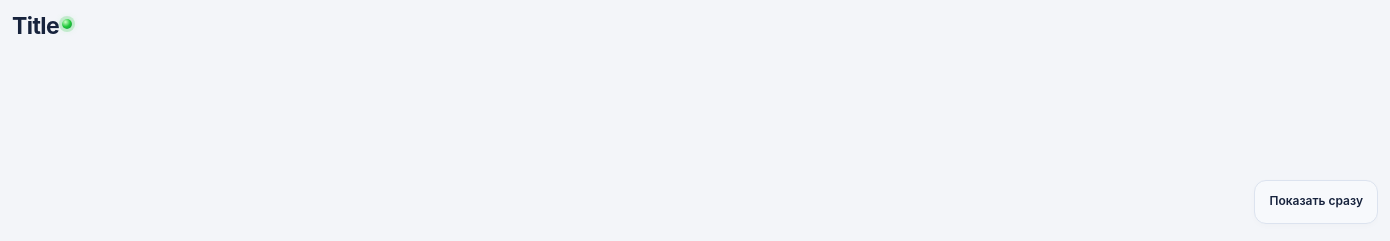
Test case: redesign interactions › reveals complete Markdown blocks and lets the reader skip
Step 1. Click the button "Показать сразу" → (1316, 202), box [1254, 180, 1378, 224]
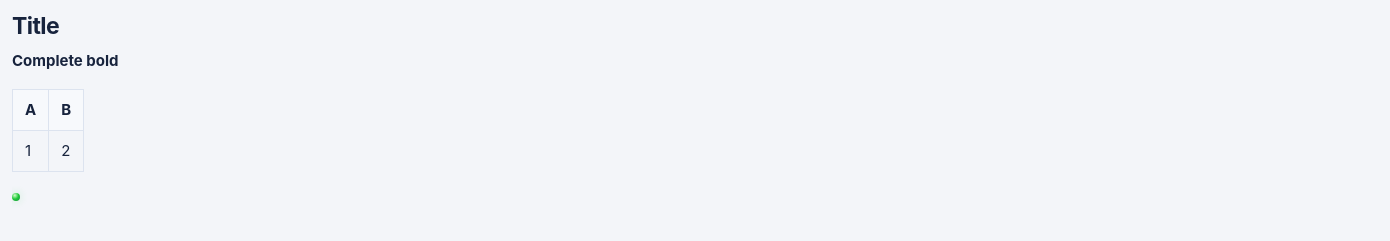
Check: the button "Показать сразу" is gone
